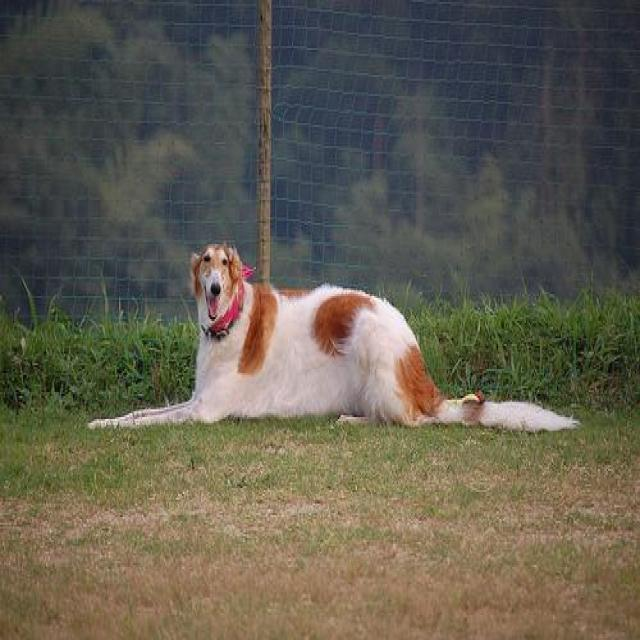adult_dog: (87, 241, 581, 433)
